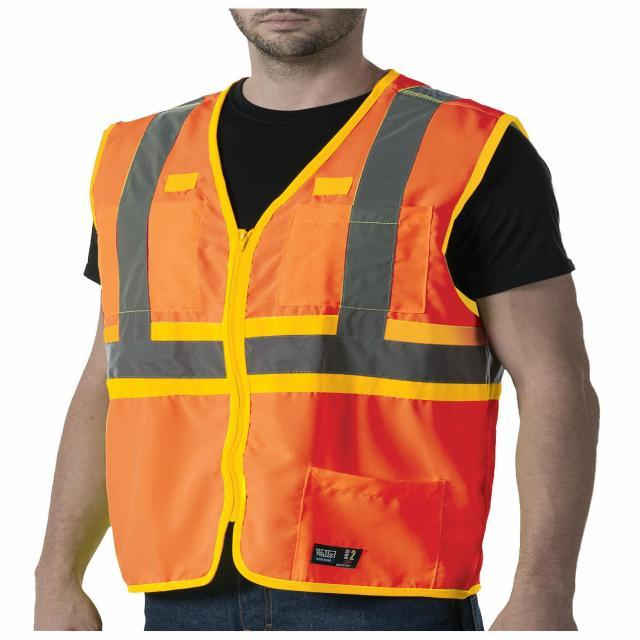person_with_vest: (70, 101, 597, 605)
